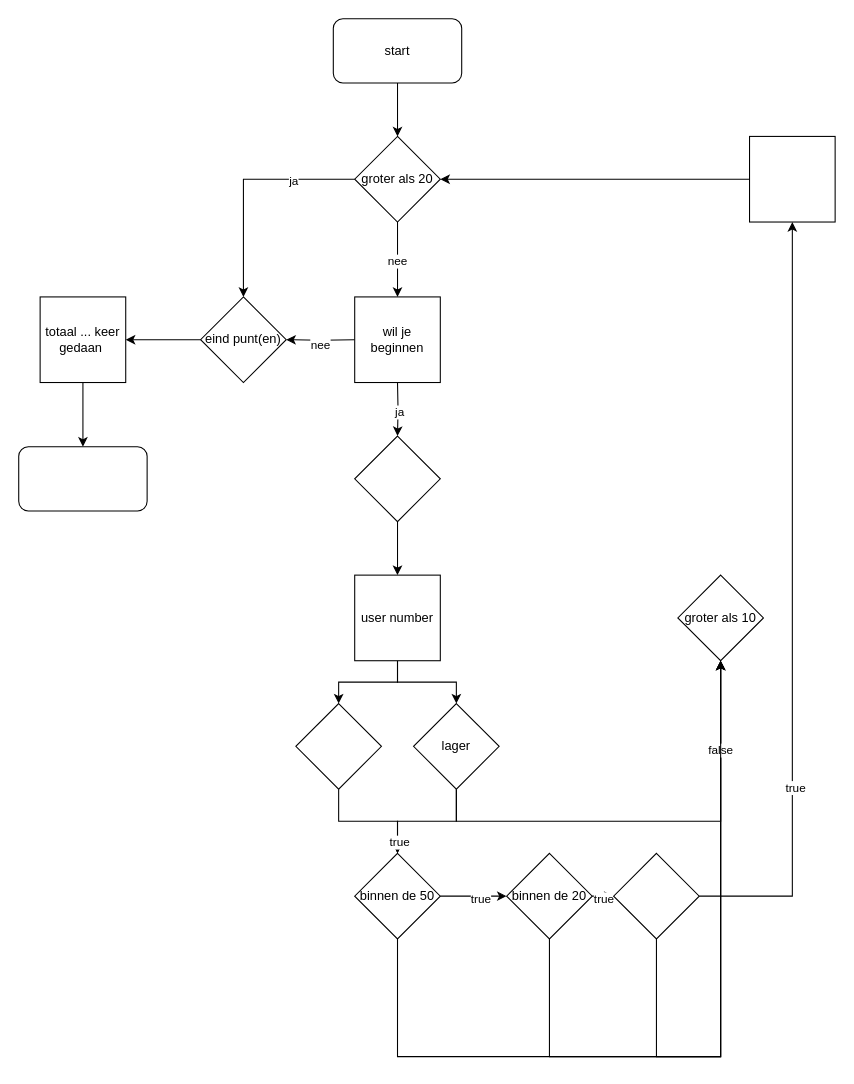
This 854x1084 diagram has some shape labels left out. The centre of each missing label's shape, as x and y in pixels:
end: (x=82, y=478)
goed: (x=656, y=895)
hoger: (x=338, y=745)
punten+1: (x=791, y=178)
random nummer 1-1000: (x=397, y=478)
